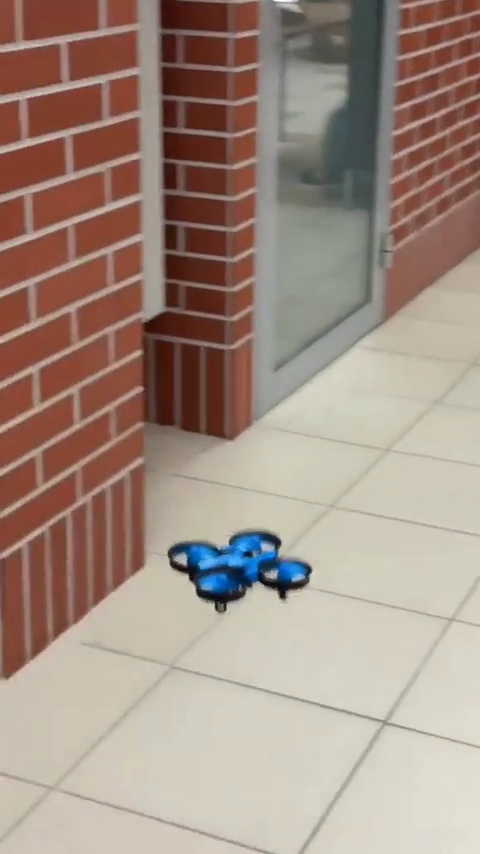drone: (155, 530, 315, 608)
